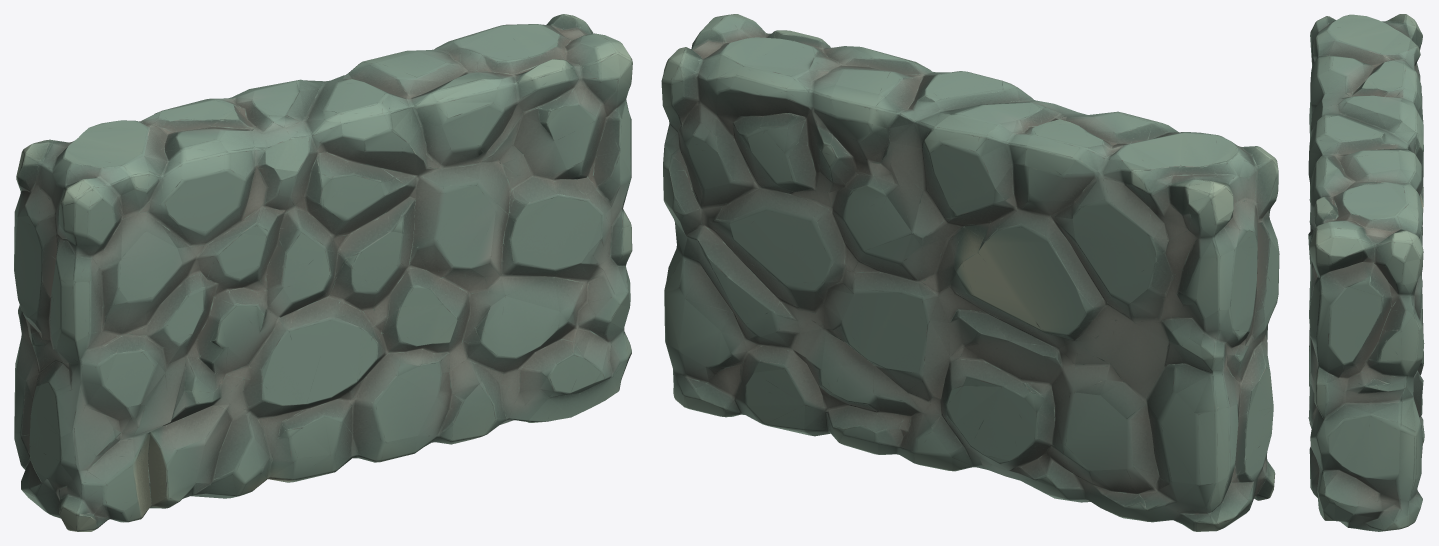
File: Wall02.fbx
3 renders of one model, left to right at view 1: azimuth 30°, elevation 25°; view 2: azimuth 150°, elevation 25°; view 3: azimuth 270°, elevation 25°, orthographic. The views are drawn at different scales.
Parts seen in each view (by area): view 1: Wall02; view 2: Wall02; view 3: Wall02.
Boxes of the visible parts, x1,y1,x2,y2 form: Wall02: [14, 14, 632, 531]; Wall02: [661, 14, 1279, 531]; Wall02: [1308, 14, 1424, 531].
Bounding box in the file's own units: 631 × 383 × 133.
Materials: 1 (1 with a texture image).
